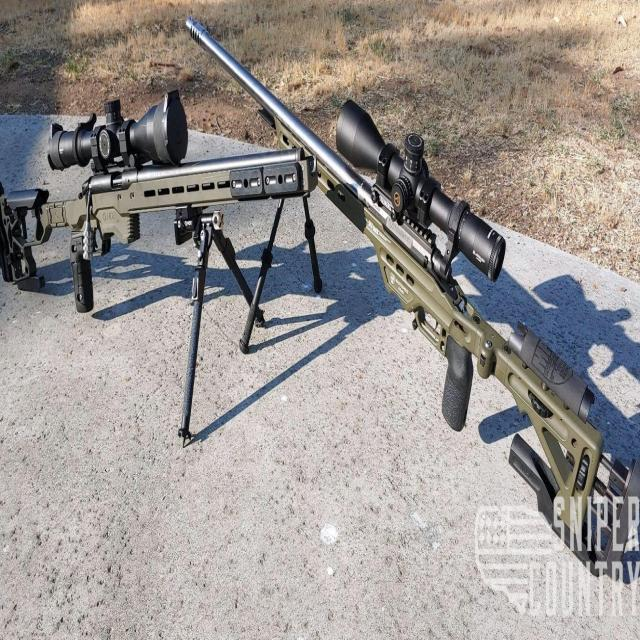Rifle: (186, 23, 640, 585), (0, 90, 306, 313)
